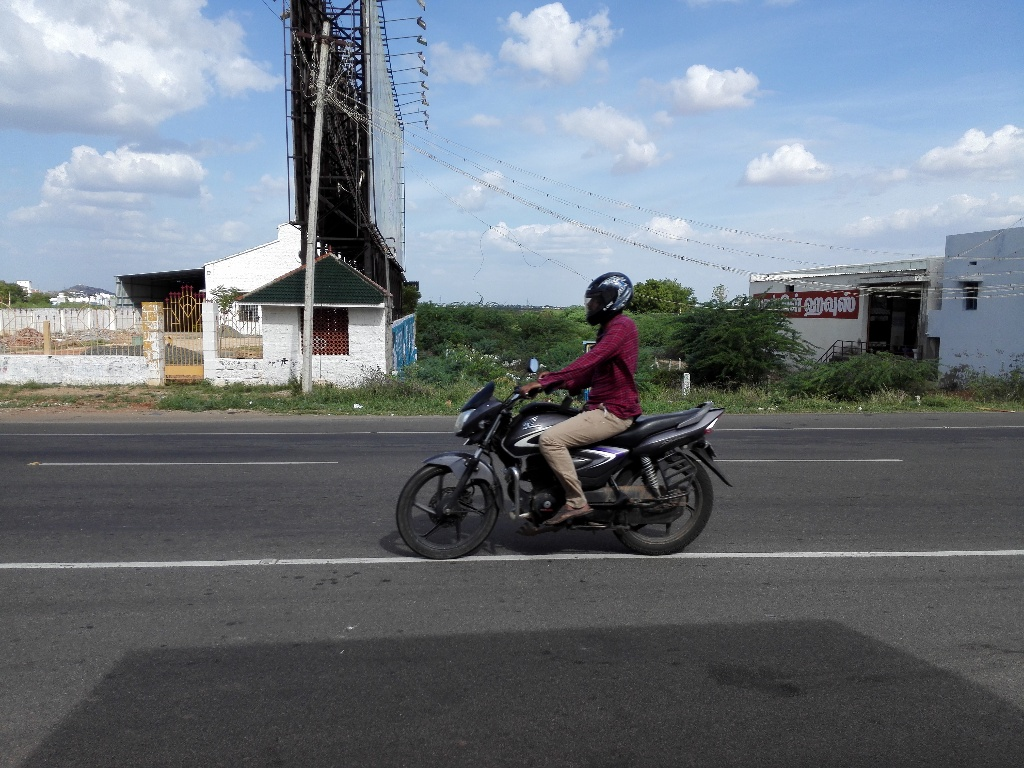biker: (376, 248, 738, 569)
helmet: (580, 265, 640, 331)
